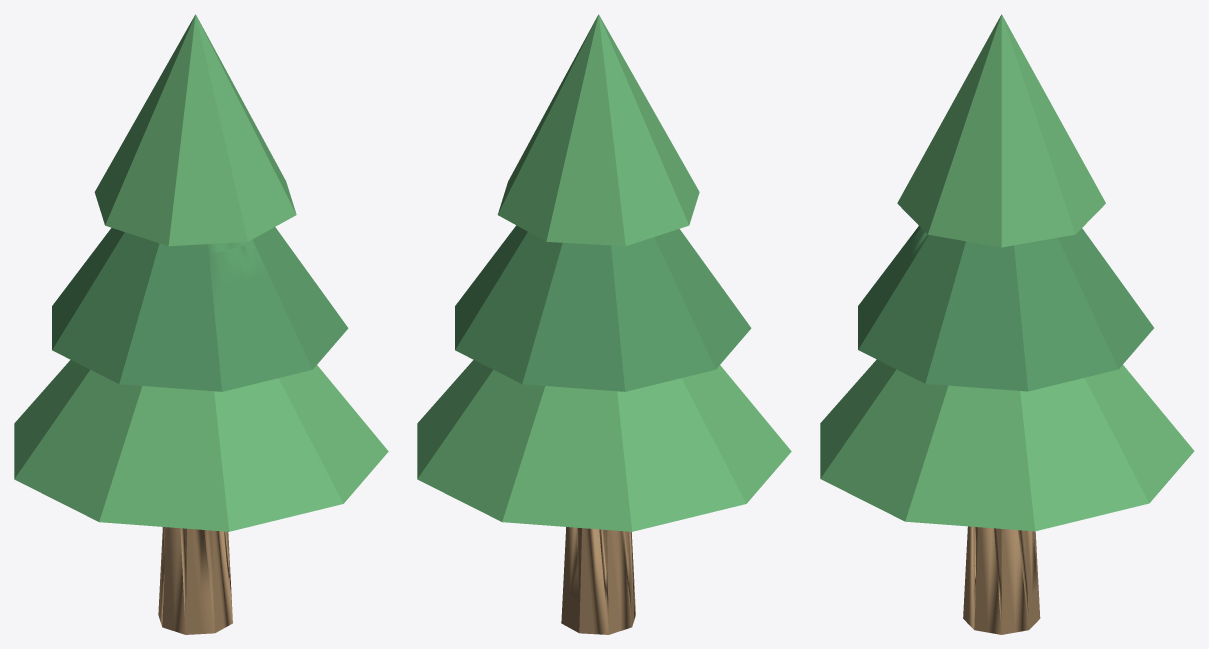
Rendered from pine_tree.glb.
3 renders of one model, left to right at view 1: azimuth 30°, elevation 25°; view 2: azimuth 150°, elevation 25°; view 3: azimuth 270°, elevation 25°, orthographic.
Parts seen in each view (by area): view 1: TreeTrunk; view 2: TreeTrunk; view 3: TreeTrunk.
Part boxes in pixels (x1,y1,x2,y2): TreeTrunk: (14, 14, 388, 634); TreeTrunk: (417, 14, 791, 634); TreeTrunk: (820, 14, 1194, 634).
Bounding box in the file's own units: 2.36 × 4.15 × 2.33.
